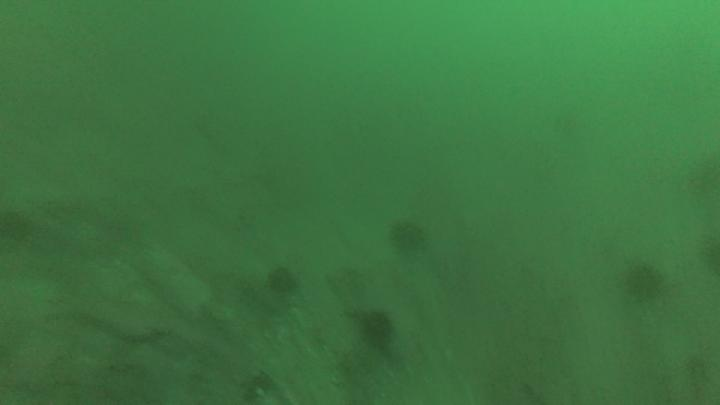echinus: (620, 259, 666, 303), (356, 308, 397, 350), (387, 216, 429, 256), (0, 205, 35, 245), (264, 264, 301, 297), (698, 232, 720, 277)
